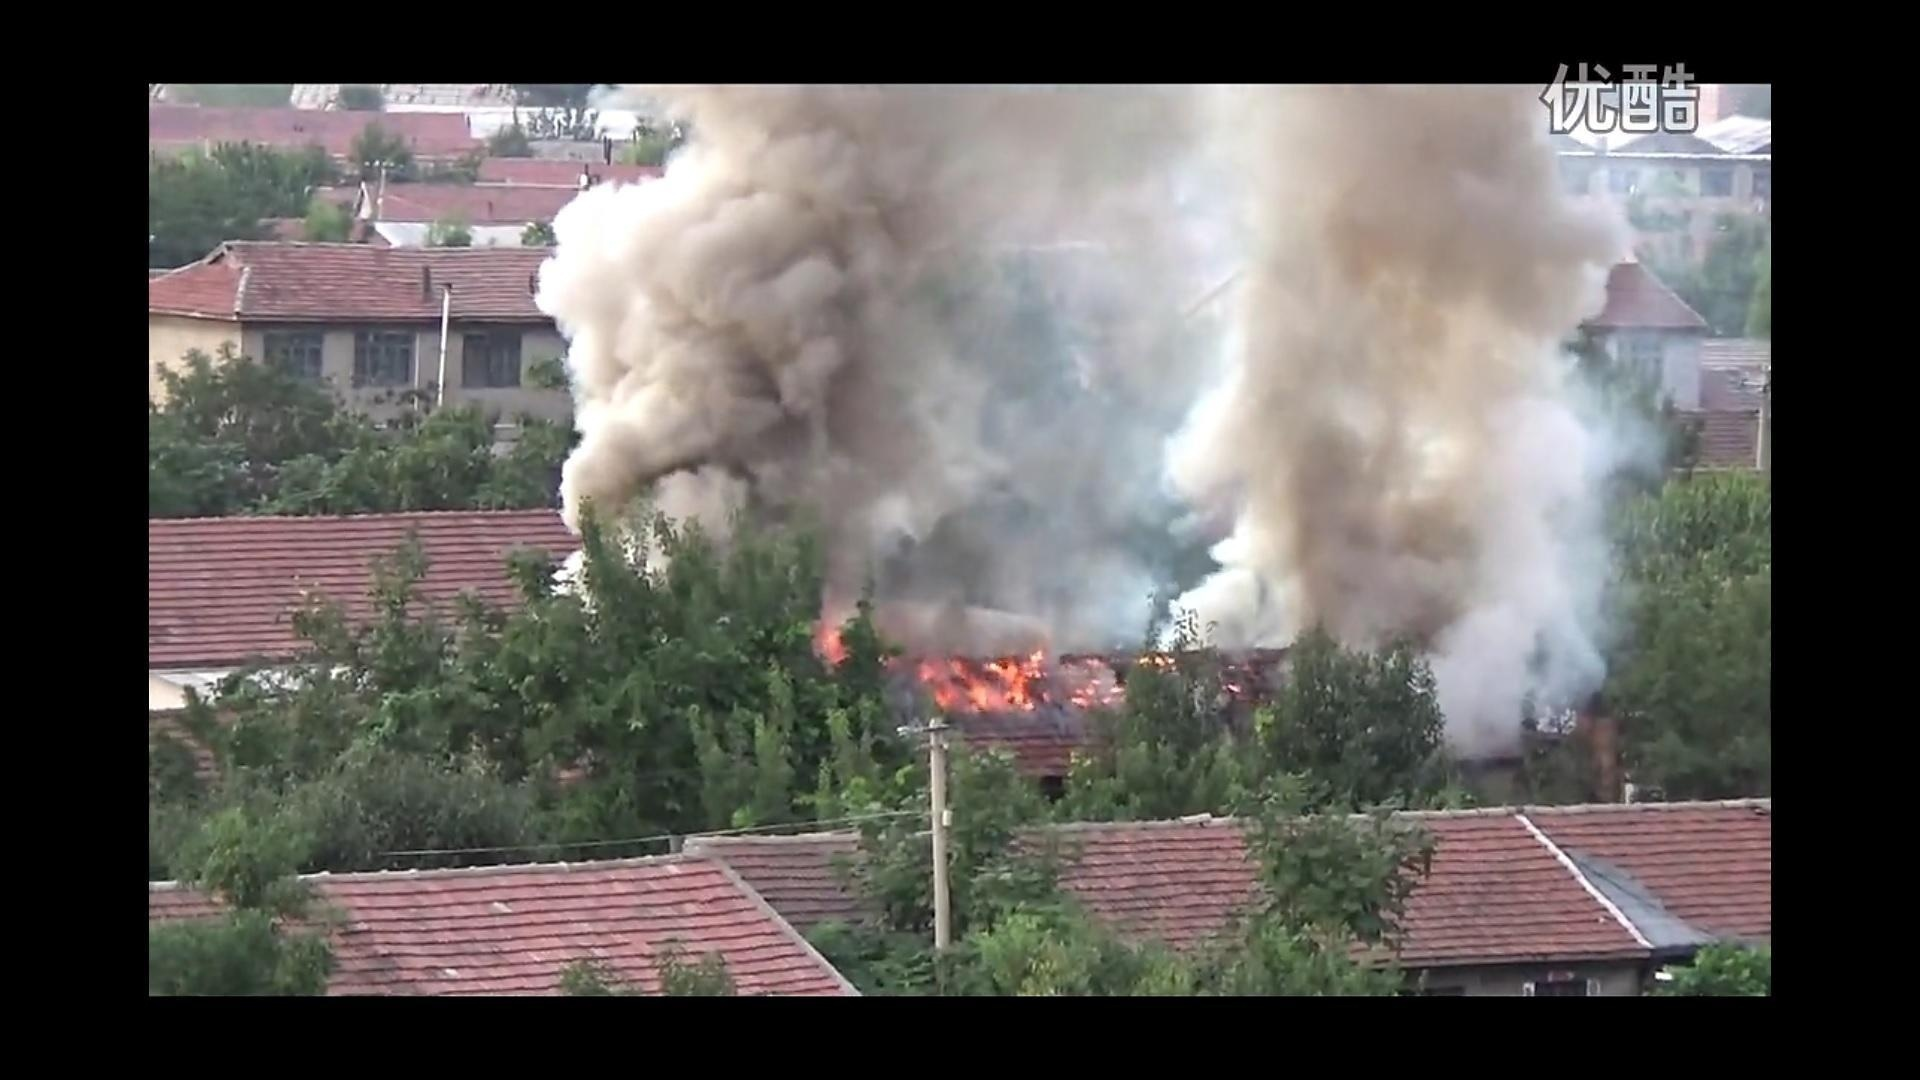fire: (899, 636, 1156, 717), (911, 649, 1046, 713), (811, 611, 852, 665)
